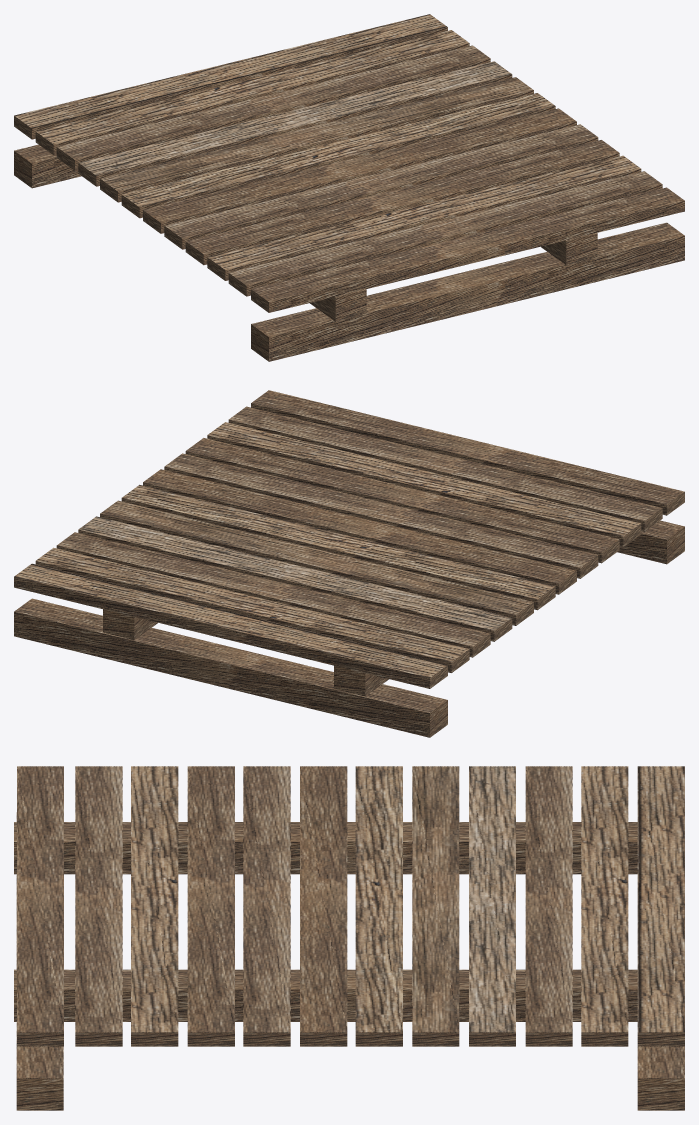
Rendered from plataforma madera sin cilindros .fbx.
3 renders of one model, top to bottom at view 1: azimuth 30°, elevation 25°; view 2: azimuth 150°, elevation 25°; view 3: azimuth 270°, elevation 25°, orthographic. The views are drawn at different scales.
Parts seen in each view (by area): view 1: Piso_4x4; view 2: Piso_4x4; view 3: Piso_4x4.
Boxes of the visible parts, left/top/right/bottom form: Piso_4x4: left=14, top=14, right=684, bottom=361; Piso_4x4: left=14, top=390, right=684, bottom=737; Piso_4x4: left=14, top=766, right=684, bottom=1110.
Size of the model in its own units: 400 by 54.83 by 426.
Materials: 2 (2 with a texture image).
